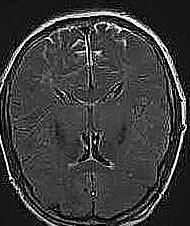Normal_Brain: (1, 1, 190, 226)
